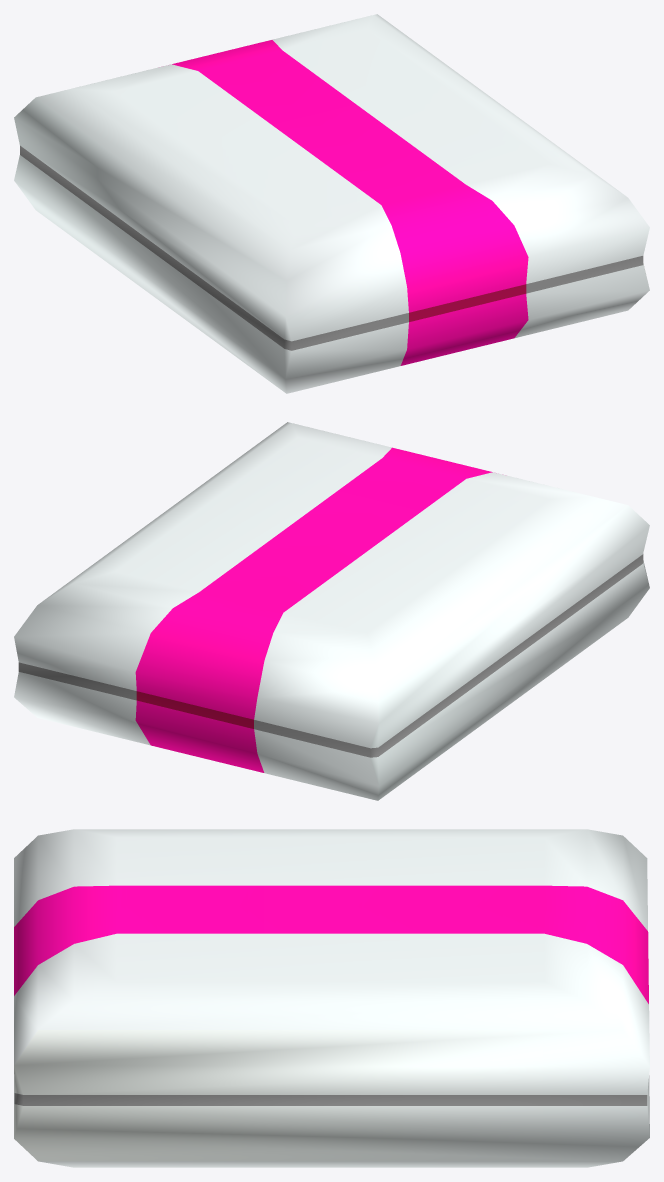
The model's file is BeachTowelStackPink.glb.
3 views of the same model, one above another, from view 1: azimuth 30°, elevation 25°; view 2: azimuth 150°, elevation 25°; view 3: azimuth 270°, elevation 25° (orthographic). The views are drawn at different scales.
Parts seen in each view (by area): view 1: BeachTowelStackPink; view 2: BeachTowelStackPink; view 3: BeachTowelStackPink.
Part boxes in pixels (x1=…): BeachTowelStackPink: x1=14, y1=14, x2=649, y2=393; BeachTowelStackPink: x1=14, y1=422, x2=649, y2=800; BeachTowelStackPink: x1=14, y1=829, x2=649, y2=1167.
Bounding box in the file's own units: 0.268 × 0.107 × 0.3471.
Materials: 1 (1 with a texture image).
